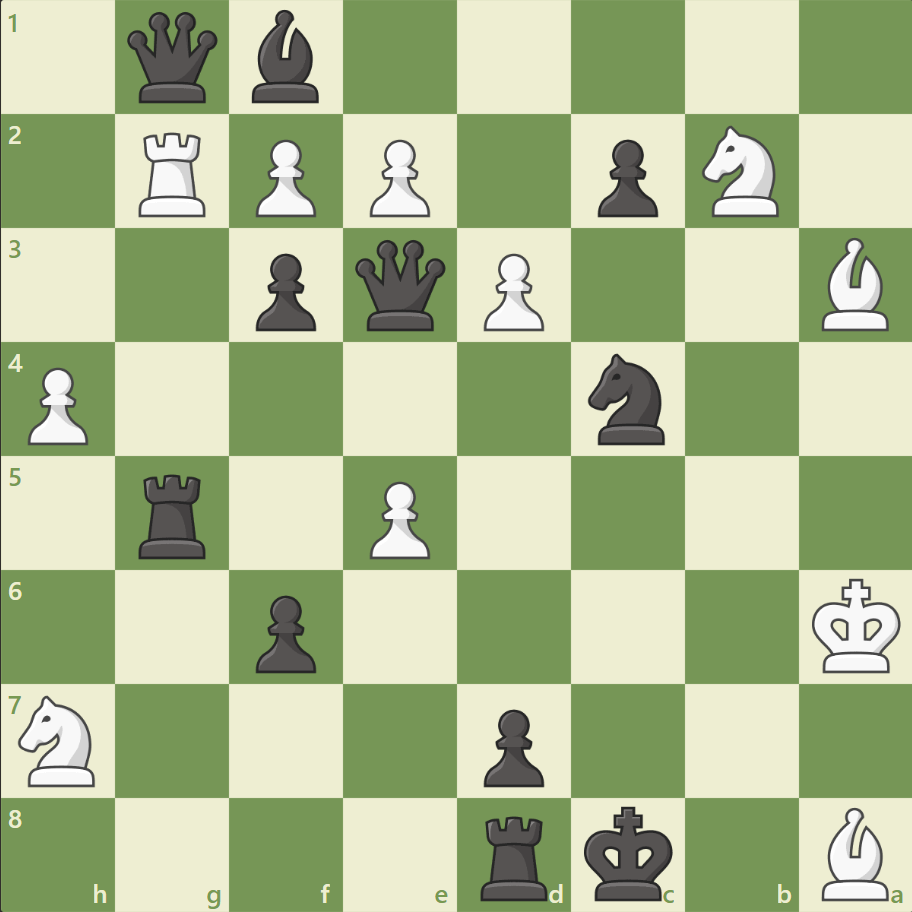B: (812, 801, 896, 904), (812, 233, 896, 336)
K: (806, 571, 906, 679)
N: (11, 688, 108, 791), (692, 121, 789, 223)
P: (20, 359, 95, 450), (474, 246, 549, 337), (247, 132, 322, 223), (361, 473, 435, 564), (361, 132, 435, 223)
R: (133, 125, 215, 222)
b: (244, 6, 328, 109)
k: (579, 798, 679, 906)
n: (579, 348, 676, 450)
p: (474, 700, 549, 791), (247, 586, 322, 677), (247, 246, 322, 337), (588, 132, 662, 223)
q: (351, 236, 450, 335), (124, 9, 223, 108)
r: (473, 806, 556, 904), (133, 466, 215, 563)
